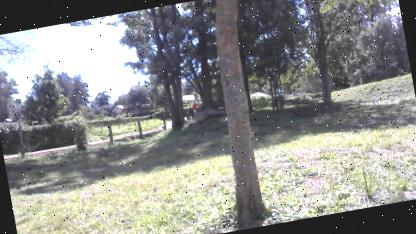tree: (193, 0, 280, 231)
